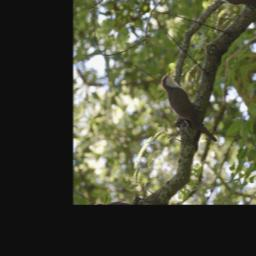Cuckoo: (148, 67, 237, 147)
